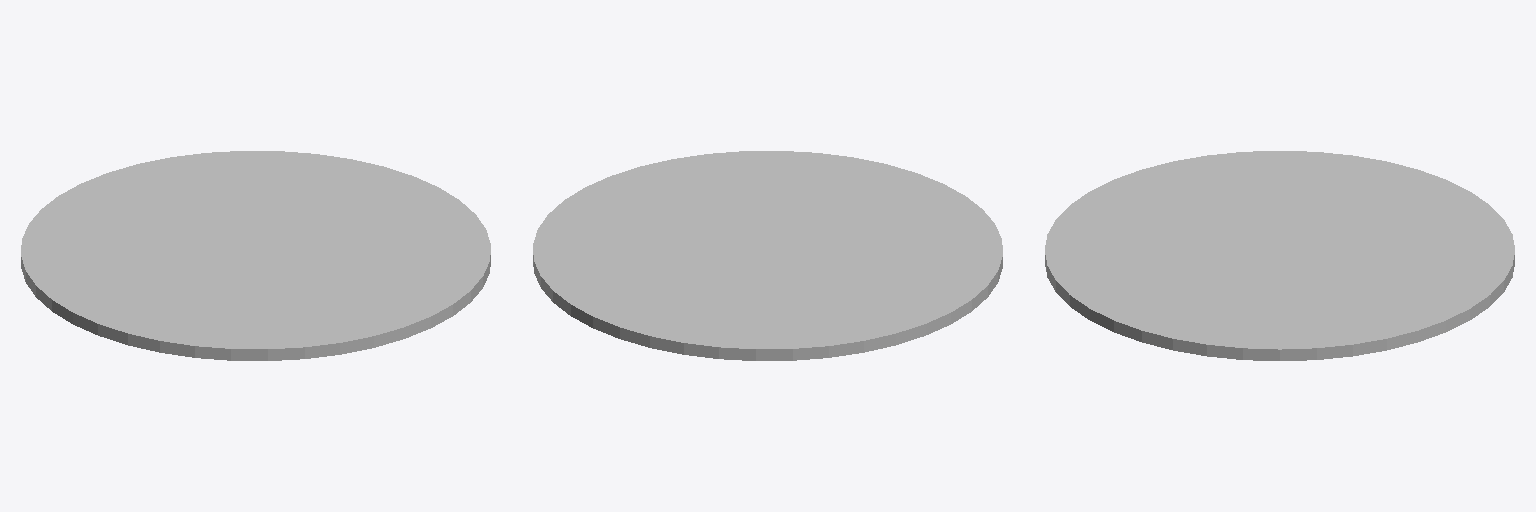
The model's file is floor_witch.obj.
3 renders of one model, left to right at view 1: azimuth 30°, elevation 25°; view 2: azimuth 150°, elevation 25°; view 3: azimuth 270°, elevation 25°, orthographic.
Visible parts, largest first — view 1: floor_witch; view 2: floor_witch; view 3: floor_witch.
Part boxes in pixels (bbox=[...]): floor_witch: bbox=[21, 151, 490, 360]; floor_witch: bbox=[533, 151, 1002, 360]; floor_witch: bbox=[1045, 151, 1514, 360].
Bounding box in the file's own units: 25.64 × 0.7111 × 25.64.